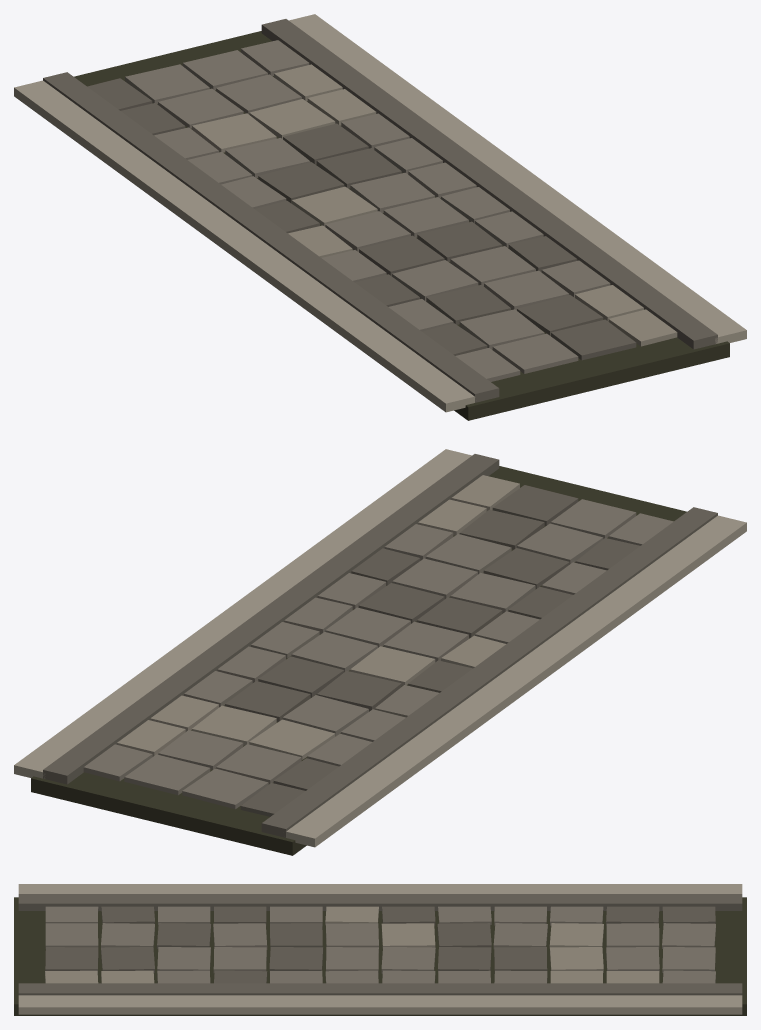
Rendered from V_Ruelle.glb.
3 views of the same model, one above another, from view 1: azimuth 30°, elevation 25°; view 2: azimuth 150°, elevation 25°; view 3: azimuth 270°, elevation 25° (orthographic). The views are drawn at different scales.
Parts seen in each view (by area): view 1: V_Ruelle; view 2: V_Ruelle; view 3: V_Ruelle.
Part boxes in pixels (x1,y1,x2,y2): V_Ruelle: (14,14,746,420); V_Ruelle: (14,449,746,855); V_Ruelle: (14,884,746,1015).
Size of the model in its own units: 3.22 by 0.23 by 8.1.
